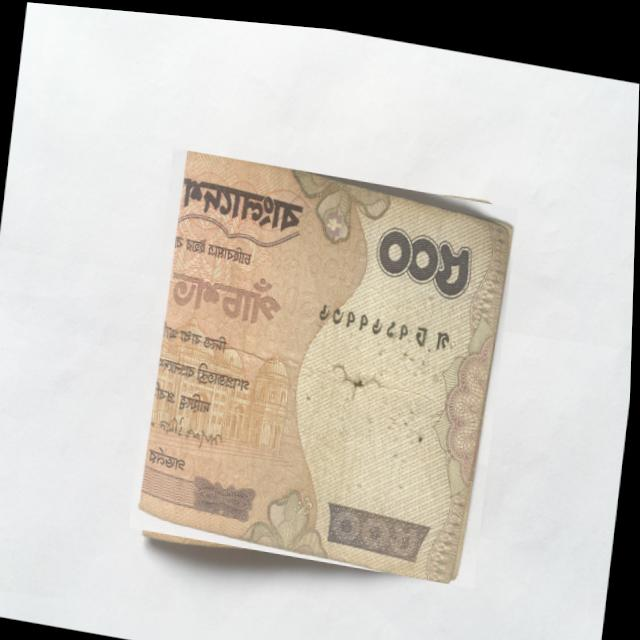Taka: (131, 142, 519, 581)
